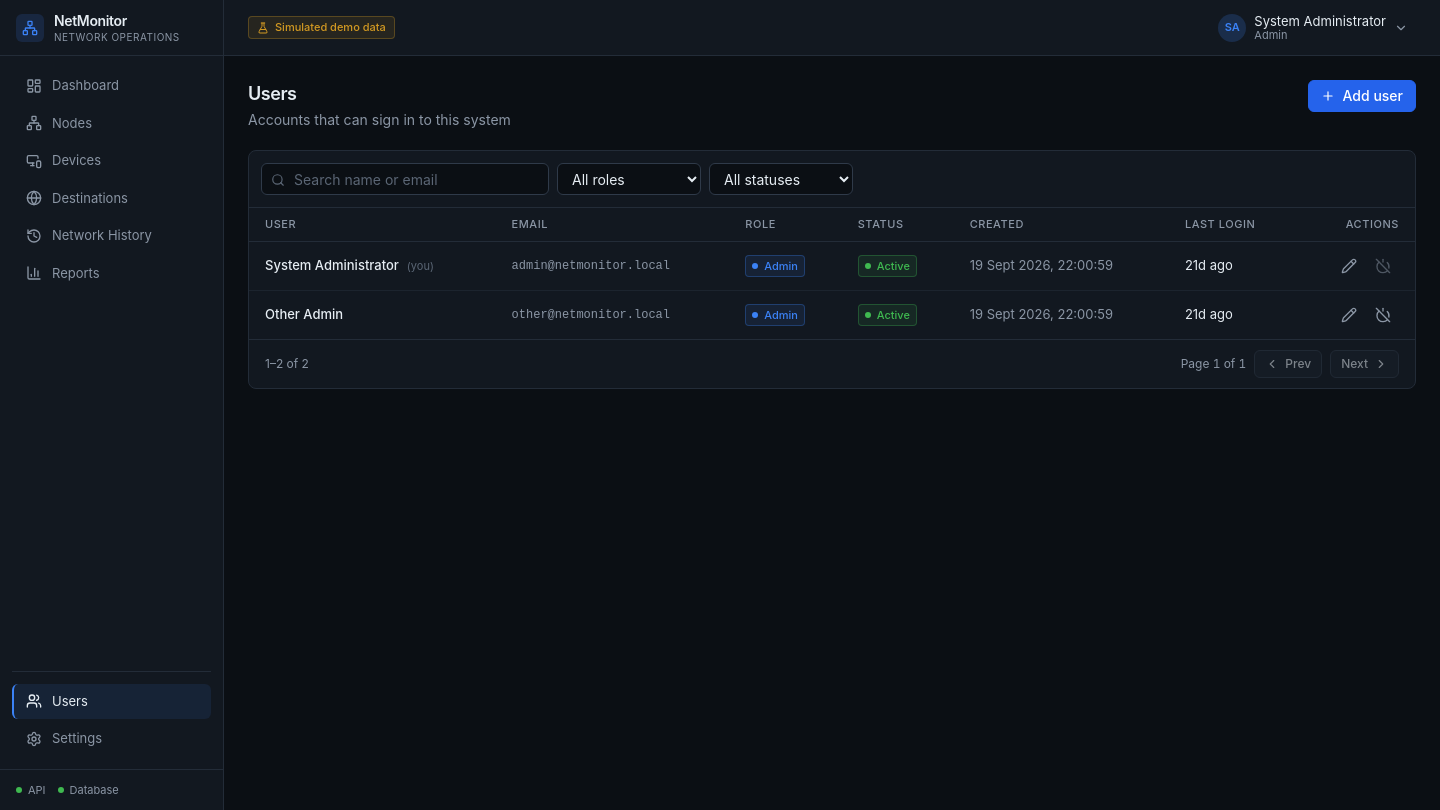
it: UsersPage › shows the backend message when the last admin cannot be disabled
Click the button named "Disable Other Admin".
click(1383, 314)  # box [1367,298,1399,330]
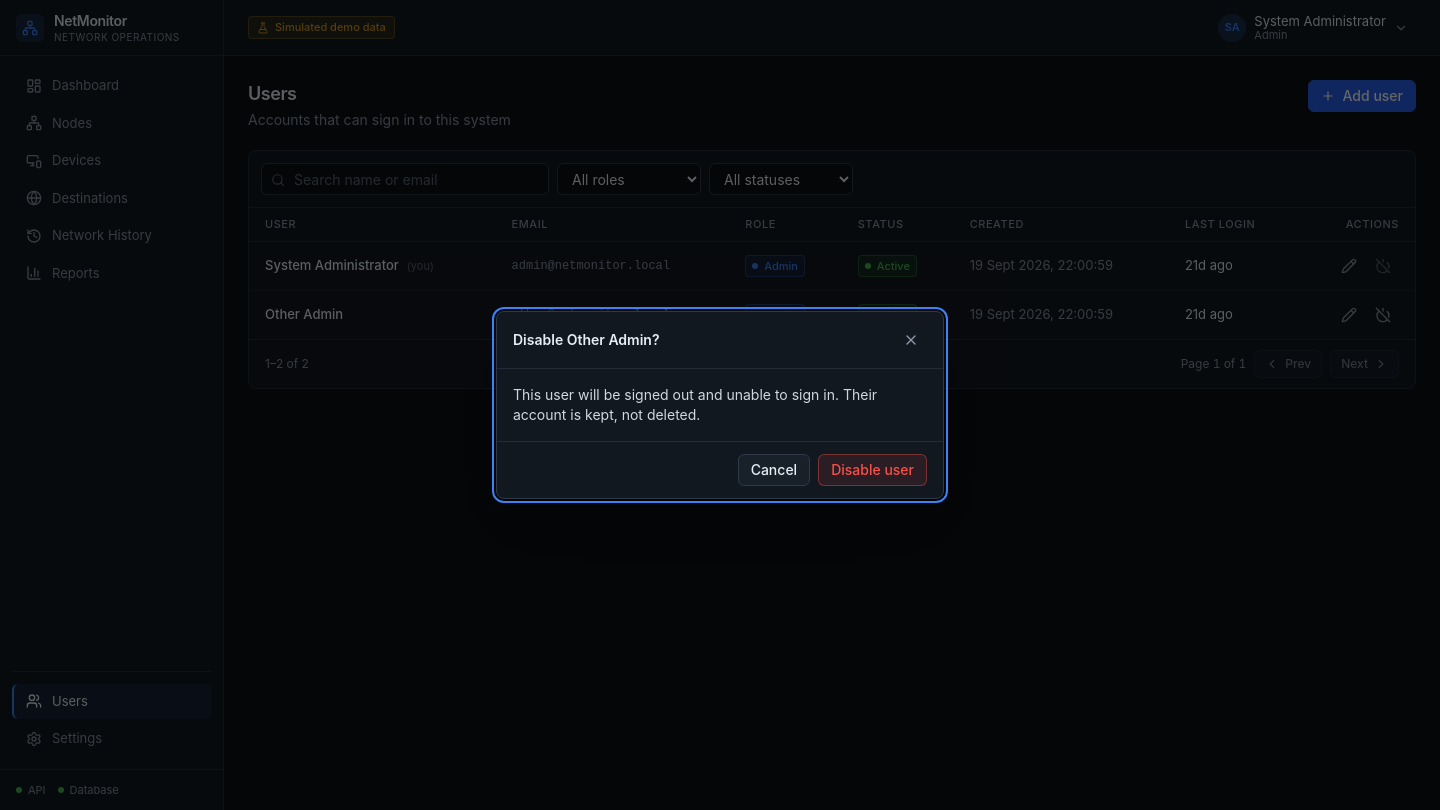
Click the button "Disable user".
click(873, 470)  # box [818,454,927,486]
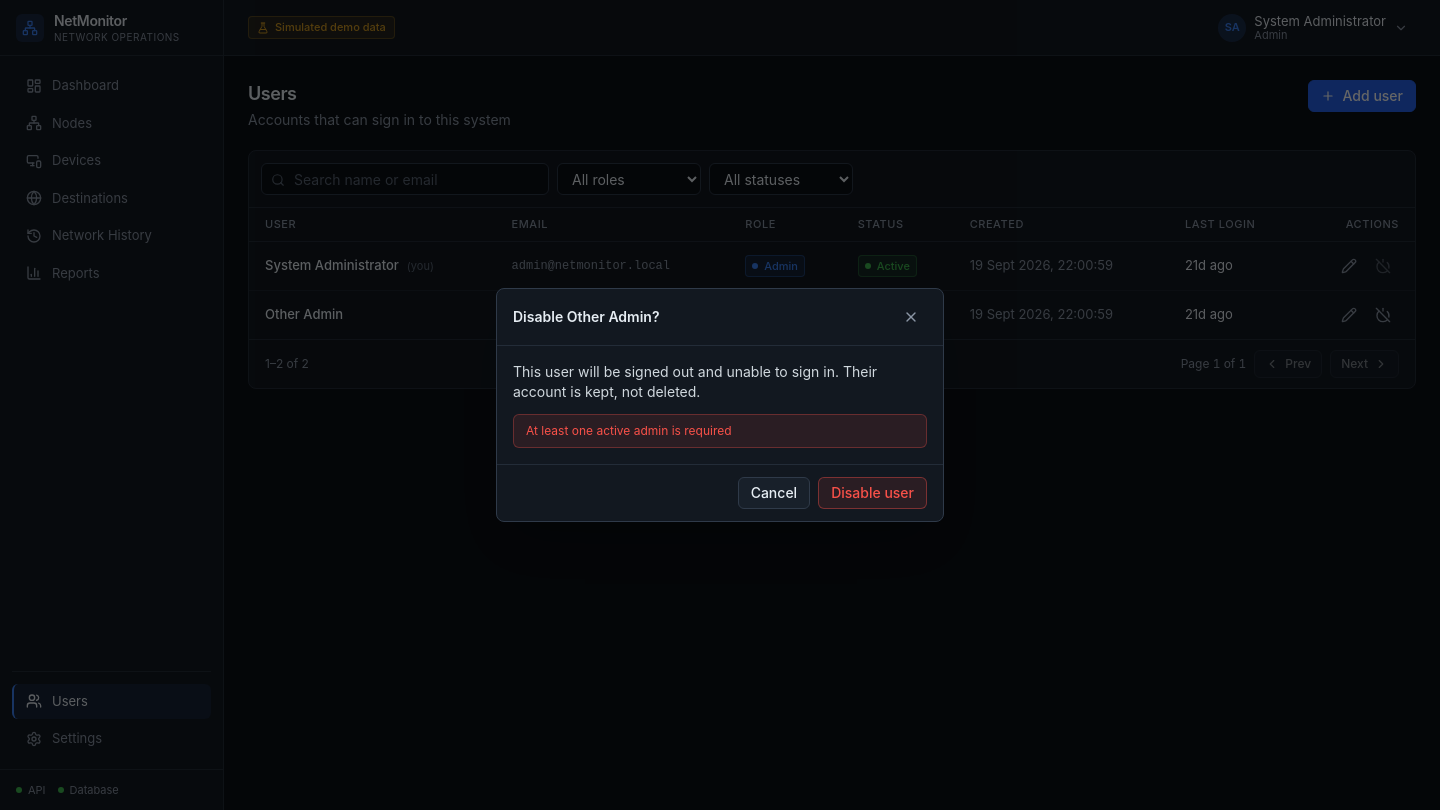
expect the text "At least one active admin is required" is shown: met, box [513,414,927,448]
